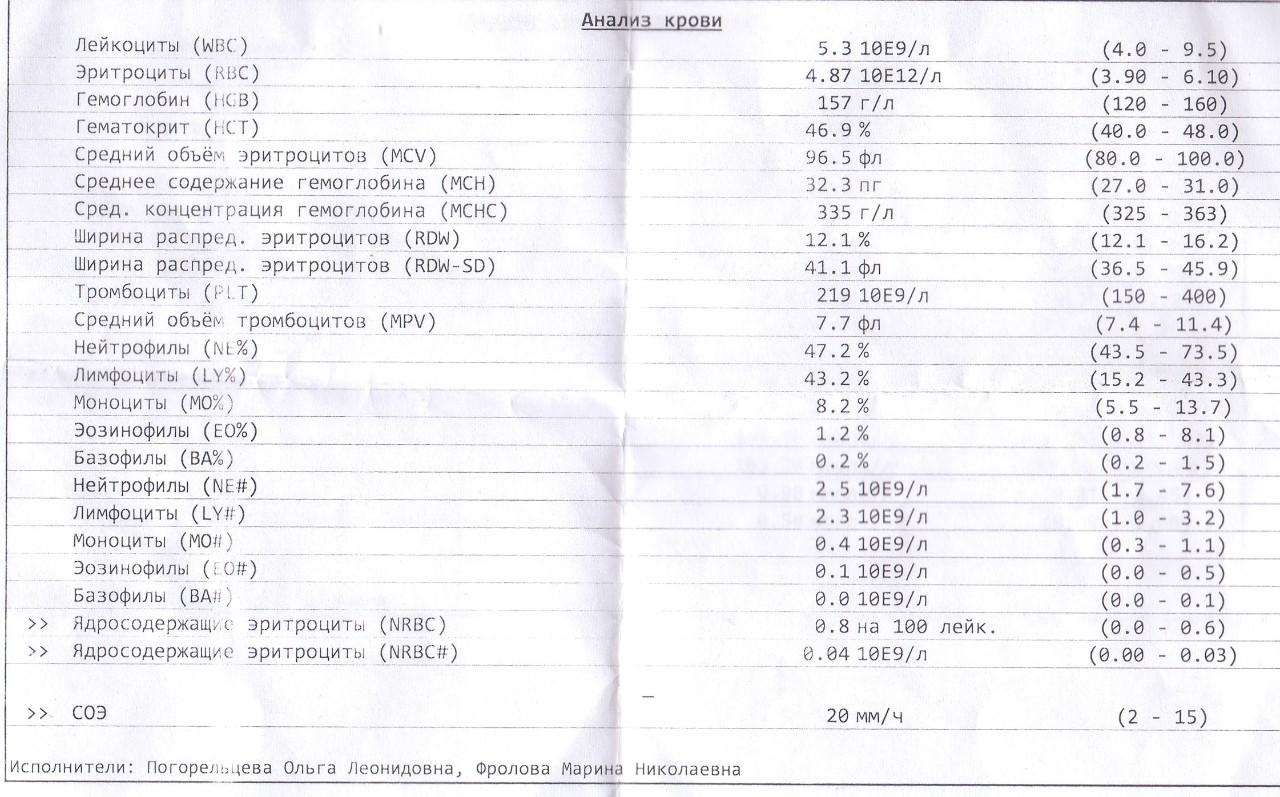column: (71, 34, 507, 729), (802, 34, 995, 729), (1084, 34, 1245, 729)
